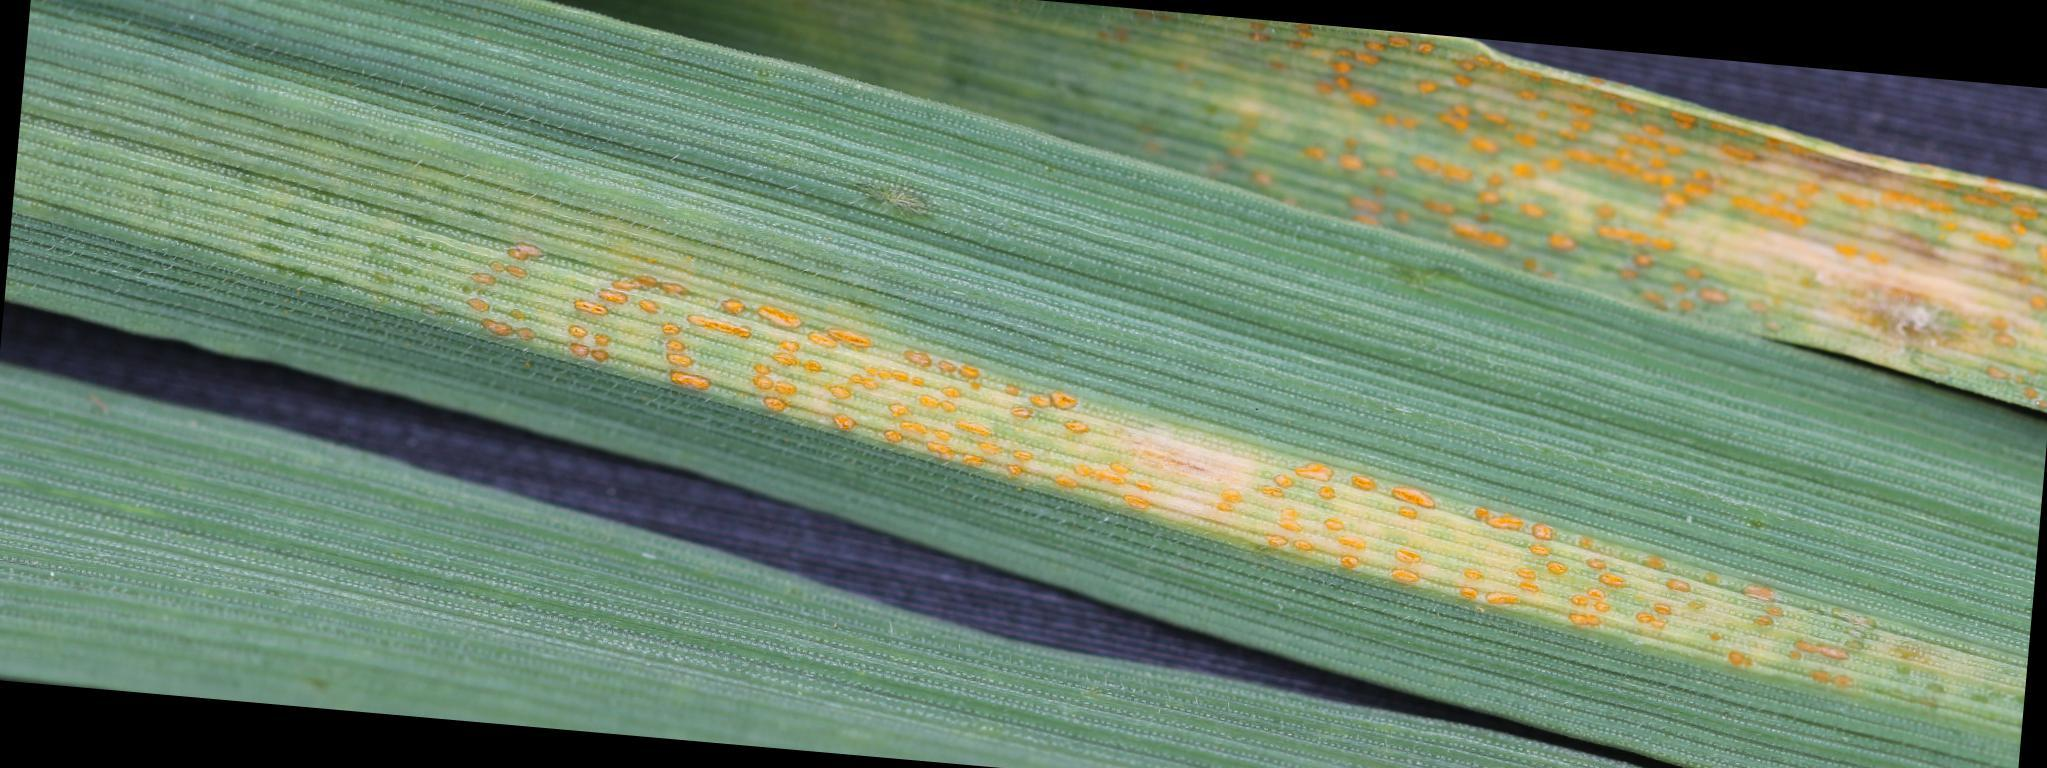Wheat: (445, 216, 1813, 692), (1299, 38, 1726, 316)
